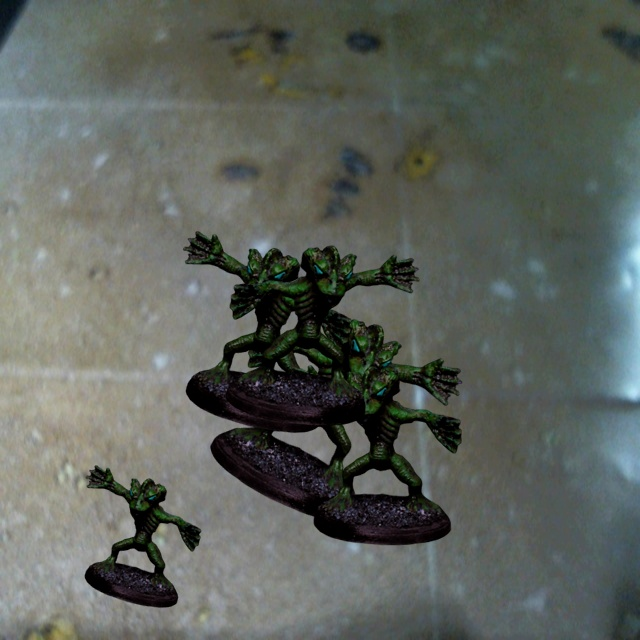pieza_juego: (210, 319, 461, 519), (226, 245, 419, 425), (183, 231, 351, 432), (282, 365, 461, 544), (85, 465, 200, 607)
